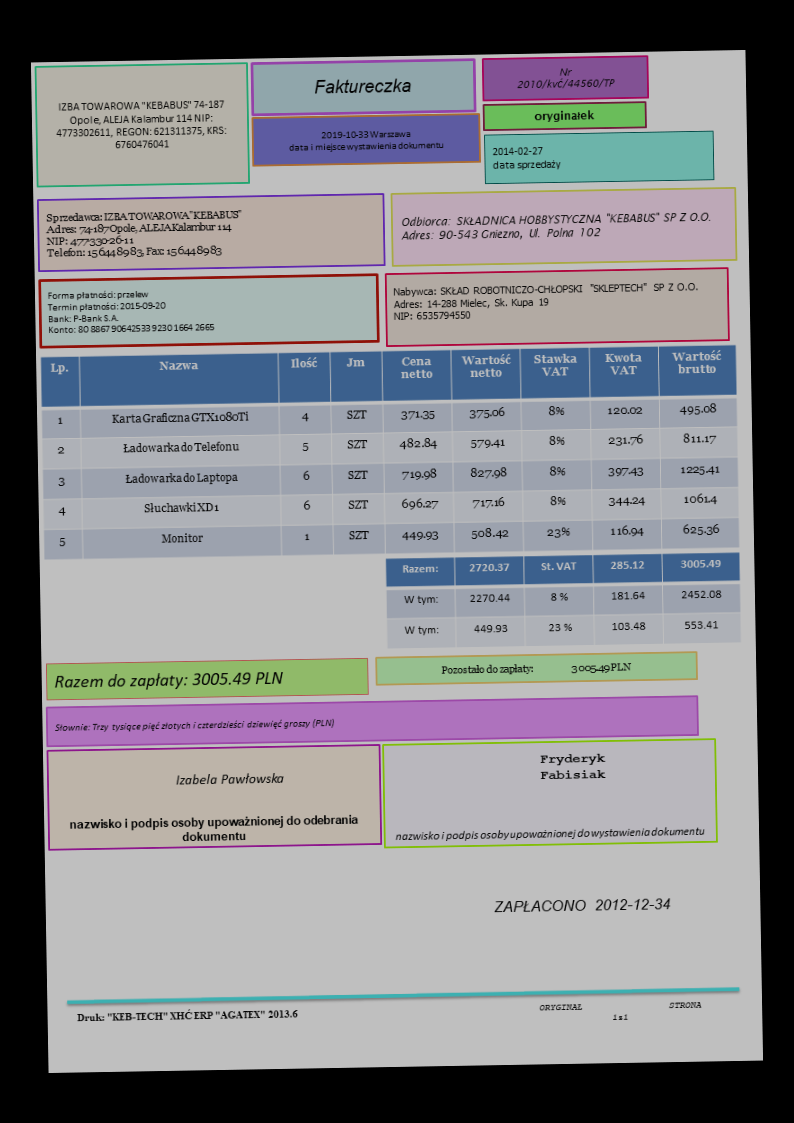Table: (39, 344, 741, 562), (383, 550, 743, 649)
TextBox: (391, 279, 701, 323), (43, 205, 244, 261), (397, 209, 714, 242), (53, 96, 229, 152), (68, 813, 360, 846), (45, 286, 215, 335), (393, 822, 707, 844), (52, 667, 286, 690), (53, 717, 337, 734), (286, 127, 447, 155), (74, 1007, 301, 1026), (491, 895, 674, 917), (538, 999, 703, 1023), (438, 660, 633, 677), (514, 64, 617, 94), (537, 751, 610, 782), (491, 144, 562, 174), (313, 76, 412, 96), (174, 771, 286, 787), (531, 108, 596, 124)
